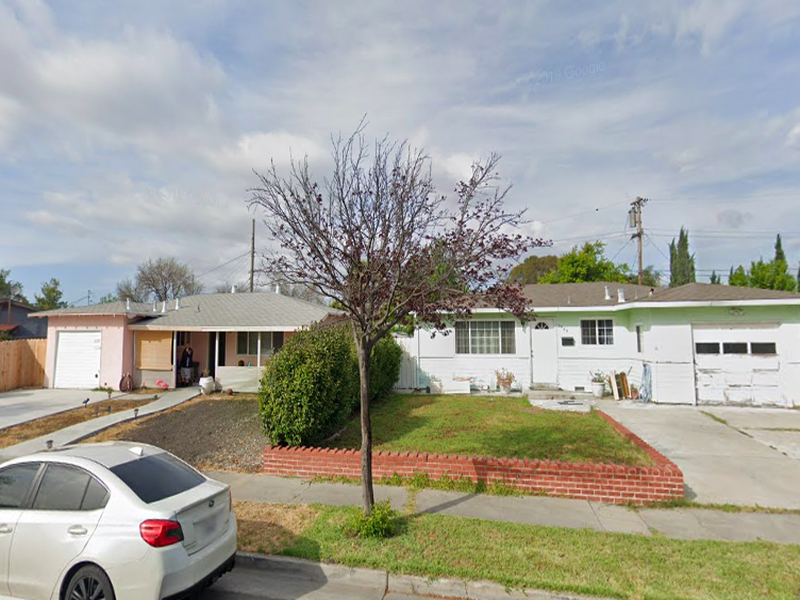tree: (244, 111, 555, 538)
